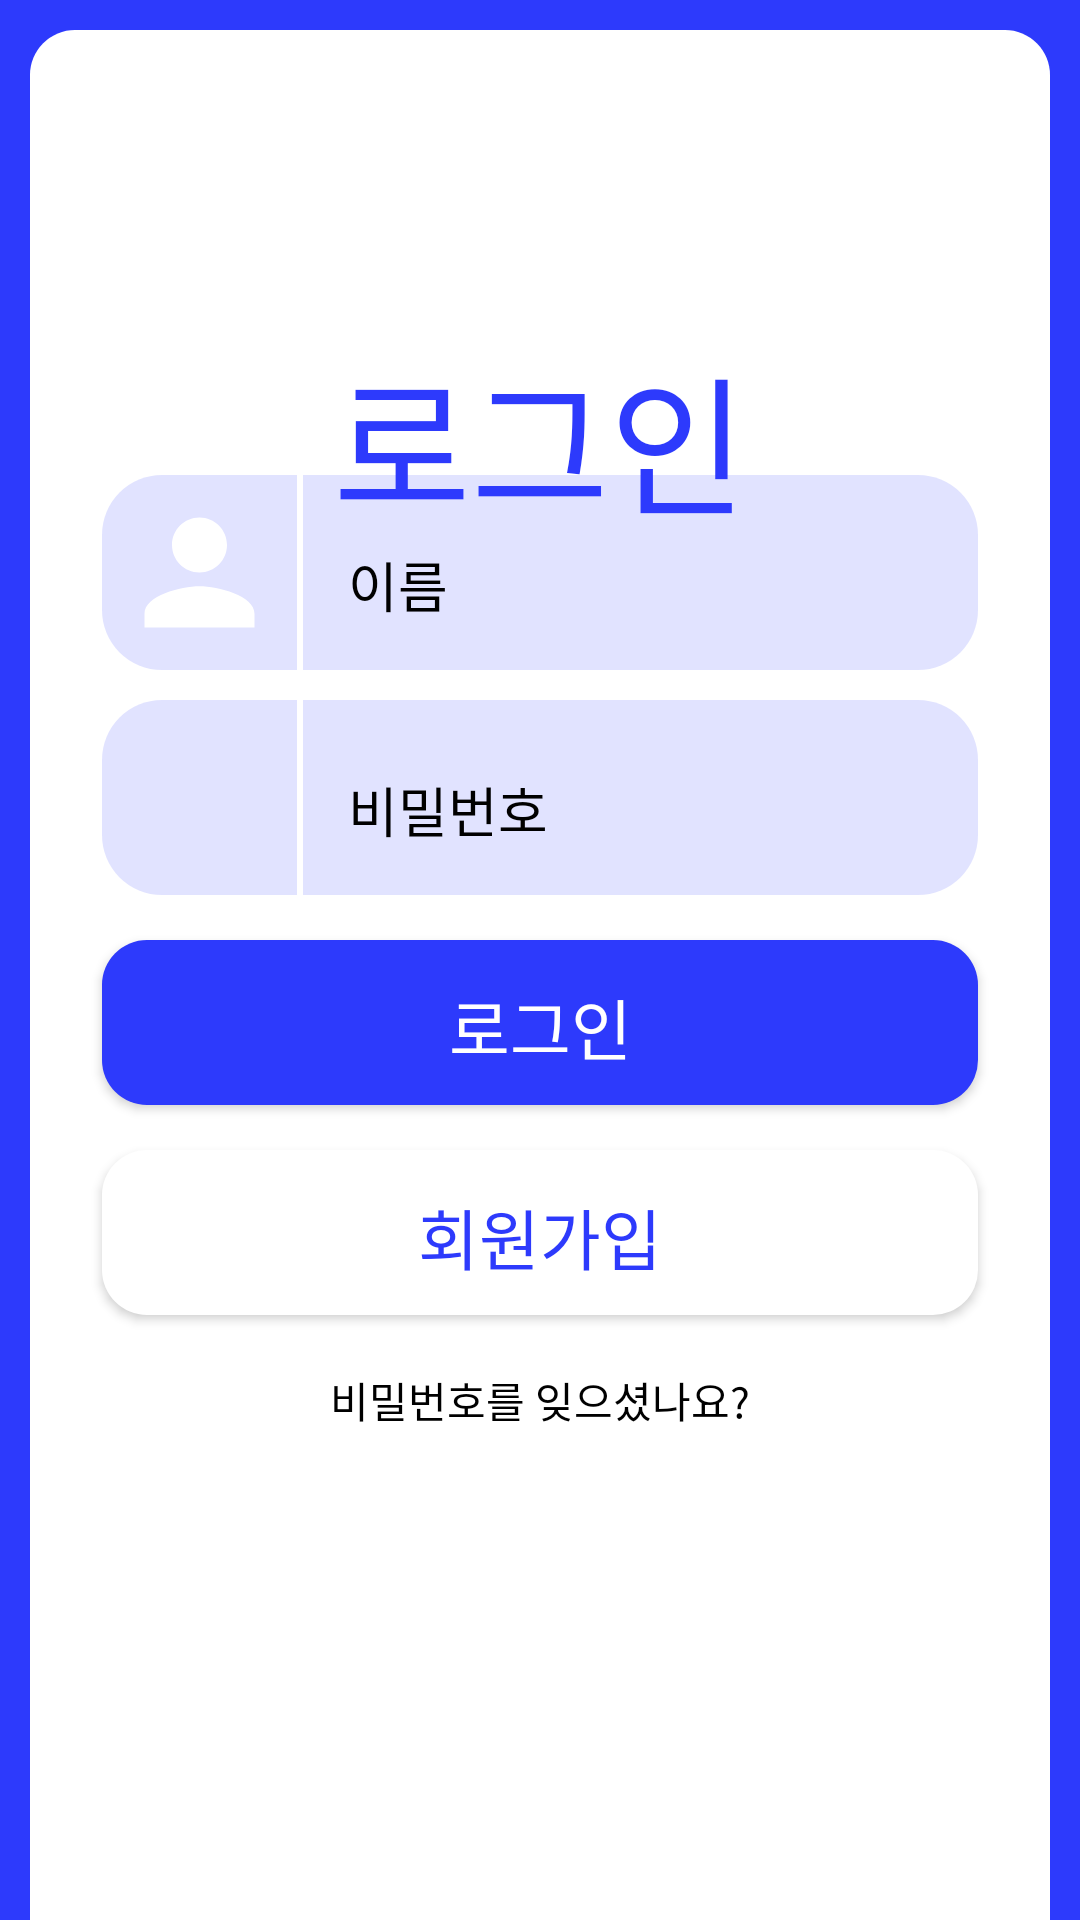

Point at icon controls on the screen. Image size 1080px×1920px, points as (x=x, y=y).
user id: (x=199, y=572)
